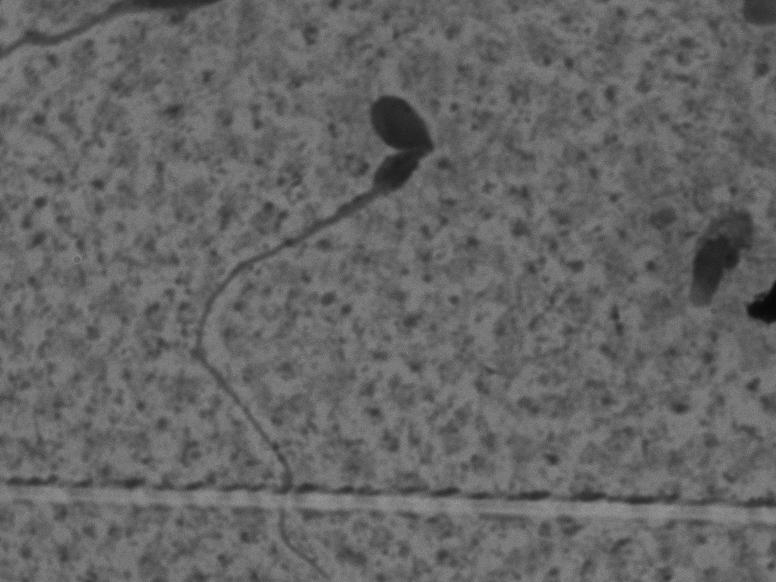Abnormal: (190, 77, 443, 572), (655, 167, 761, 351)
